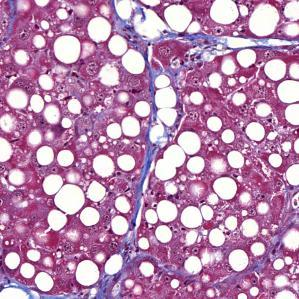fibrosis: (154, 34, 225, 69)
